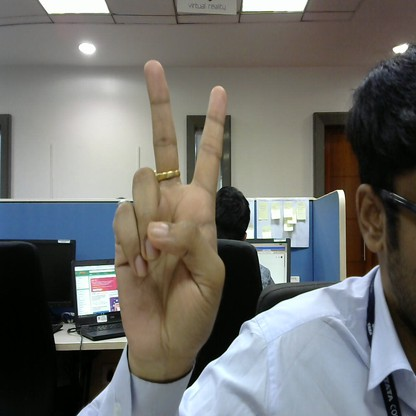v: (104, 52, 241, 374)
